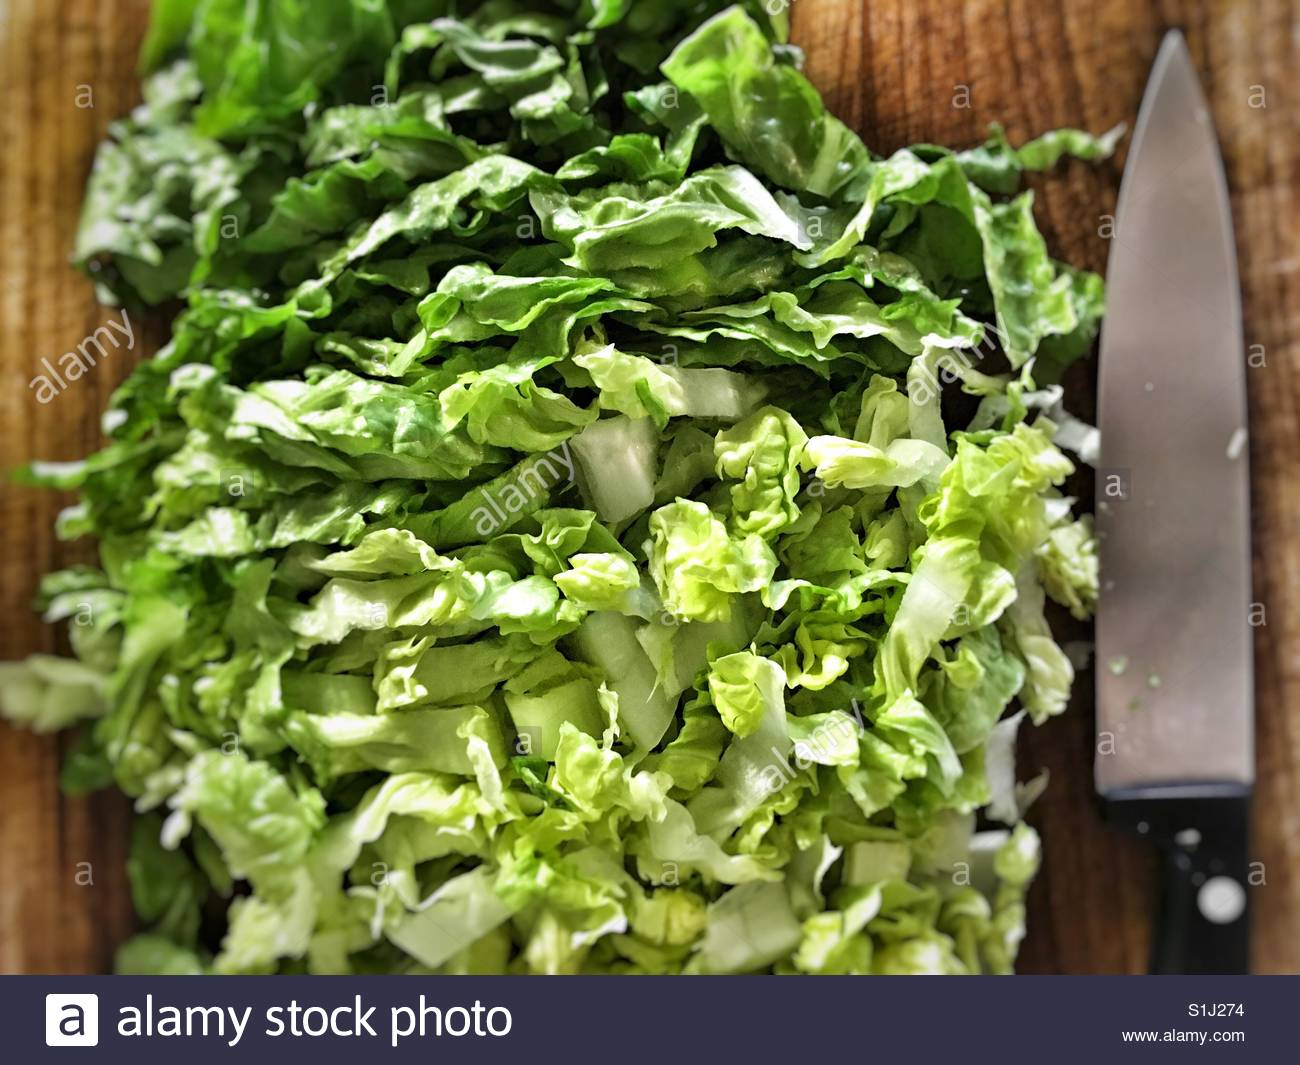chopped lettuce: (227, 172, 983, 912)
